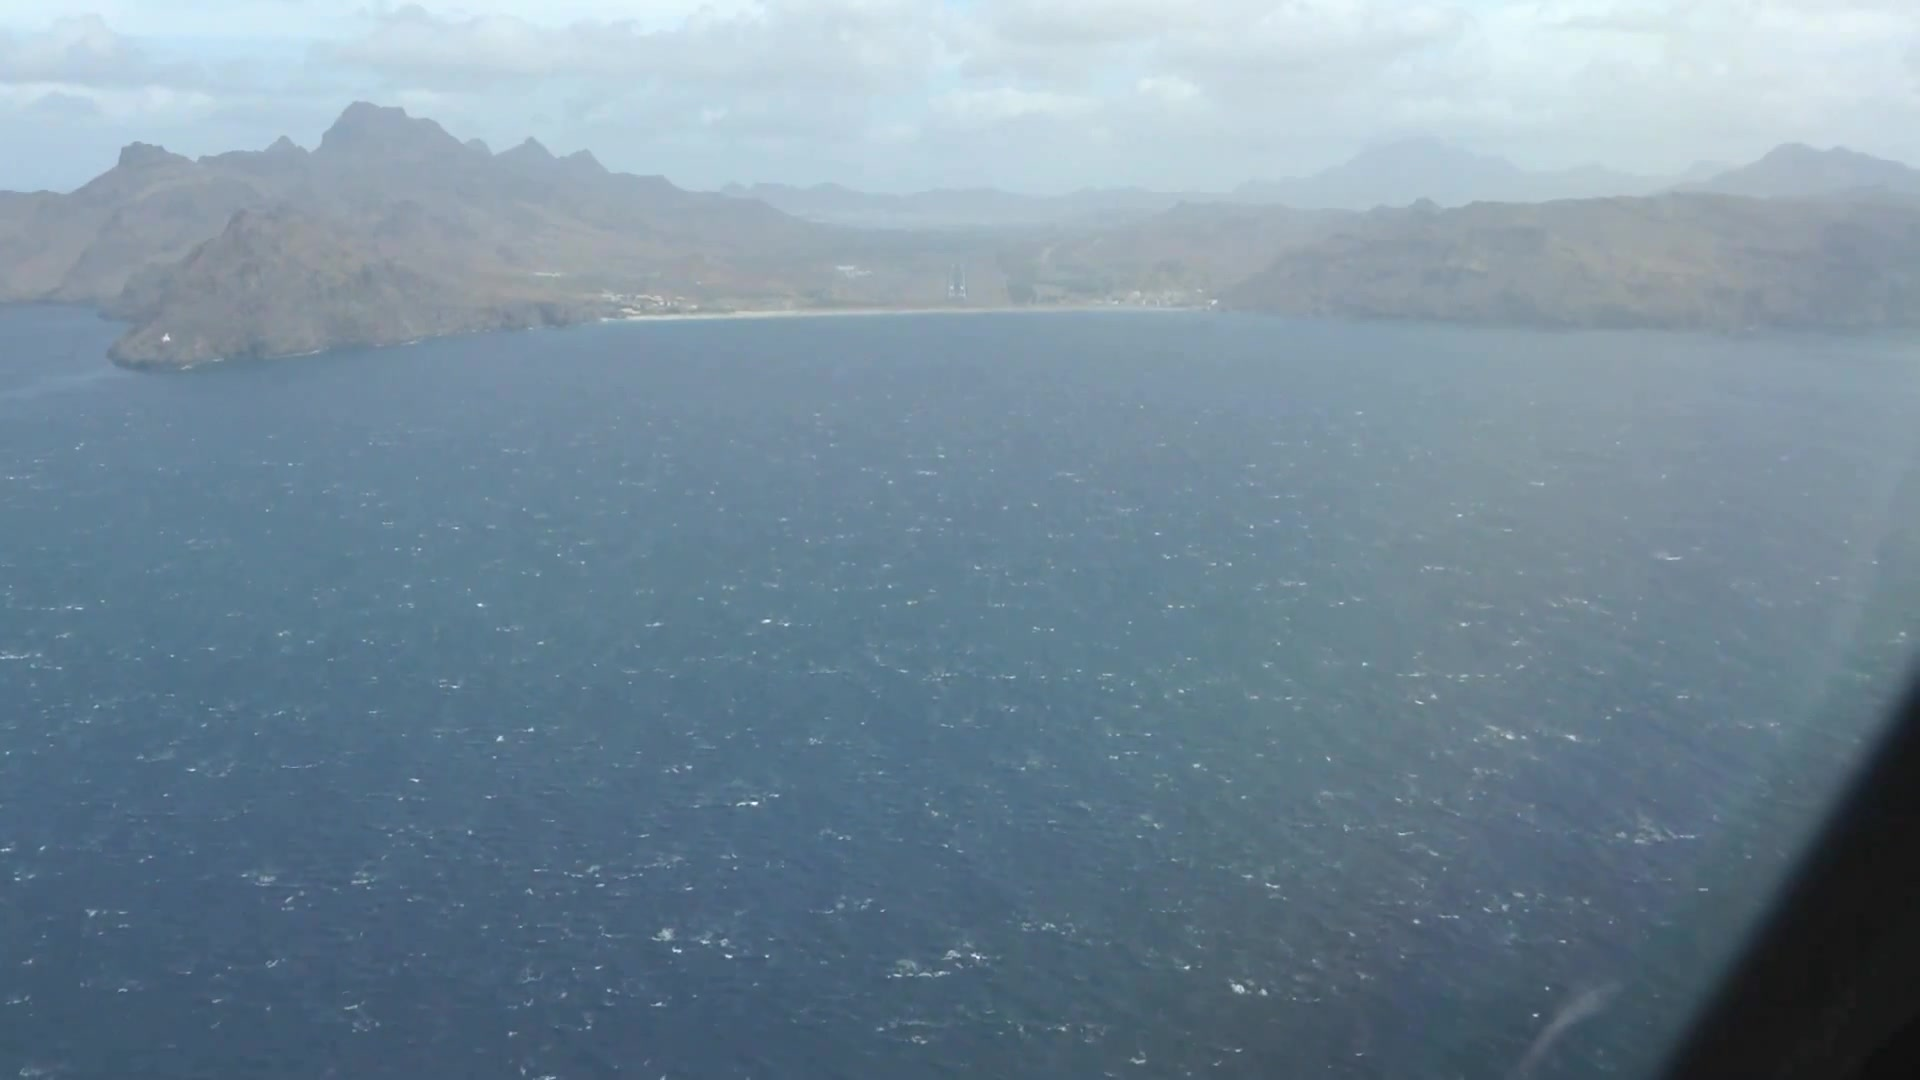runway: (945, 255, 967, 303)
